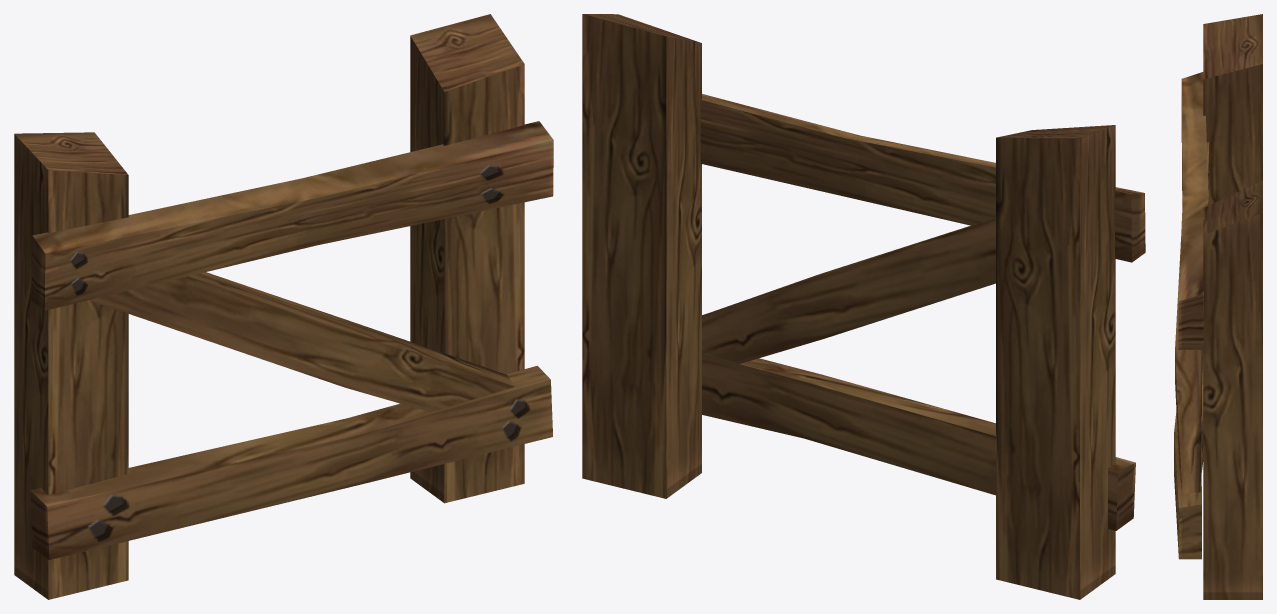
Rendered from fanasty_mod_gro_fence03.fbx.
3 renders of one model, left to right at view 1: azimuth 30°, elevation 25°; view 2: azimuth 150°, elevation 25°; view 3: azimuth 270°, elevation 25°, orthographic. The views are drawn at different scales.
Parts seen in each view (by area): view 1: gro_fence_03; view 2: gro_fence_03; view 3: gro_fence_03.
Part boxes in pixels (box(x1,y1,x2,y2)): gro_fence_03: box(14, 14, 553, 599); gro_fence_03: box(582, 14, 1145, 599); gro_fence_03: box(1174, 14, 1262, 599).
Size of the model in its own units: 1.54 by 1.29 by 0.2681.
